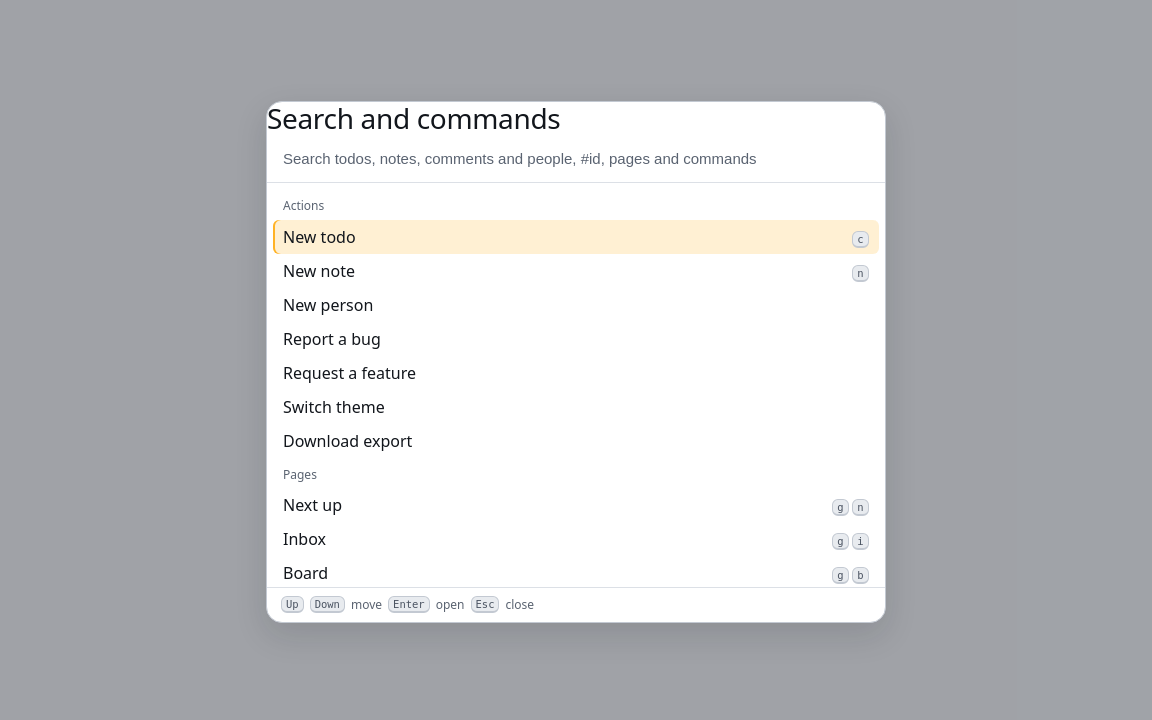
Palette search by #id › says when no todo has the number
Type "#7" into the dropdown.
click(576, 159); type("#7")  # box [267,135,885,183]
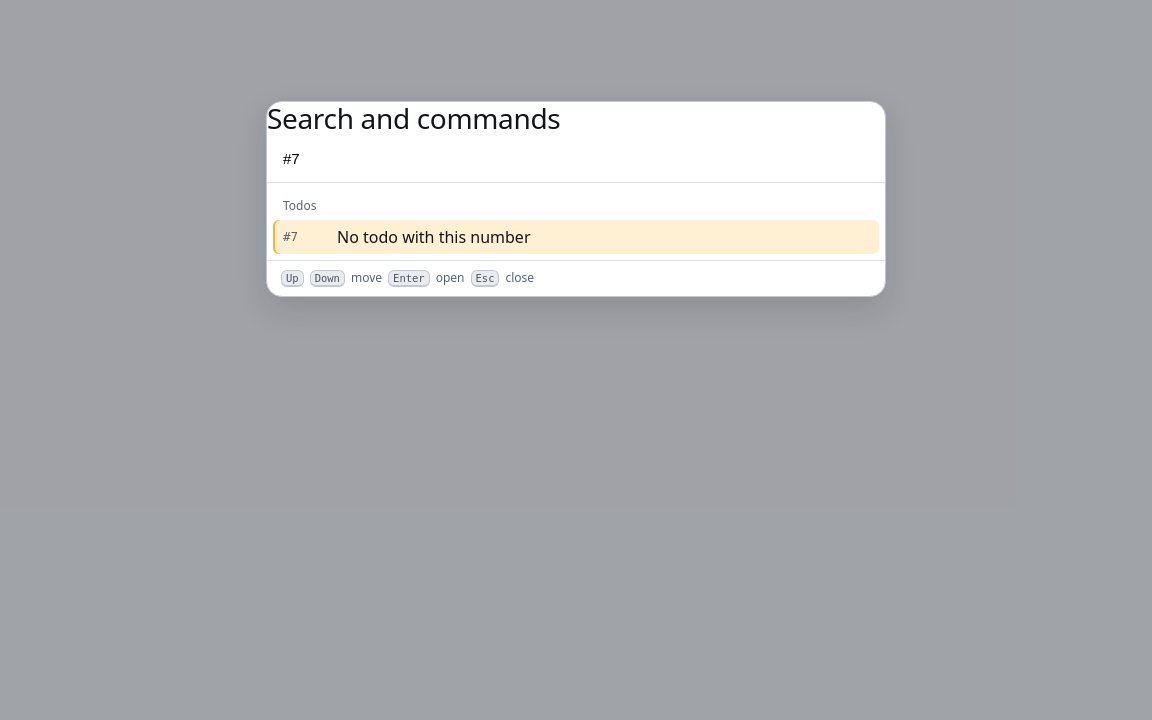
expect the text "No todo with this number" is shown: met, box [337,226,530,248]
